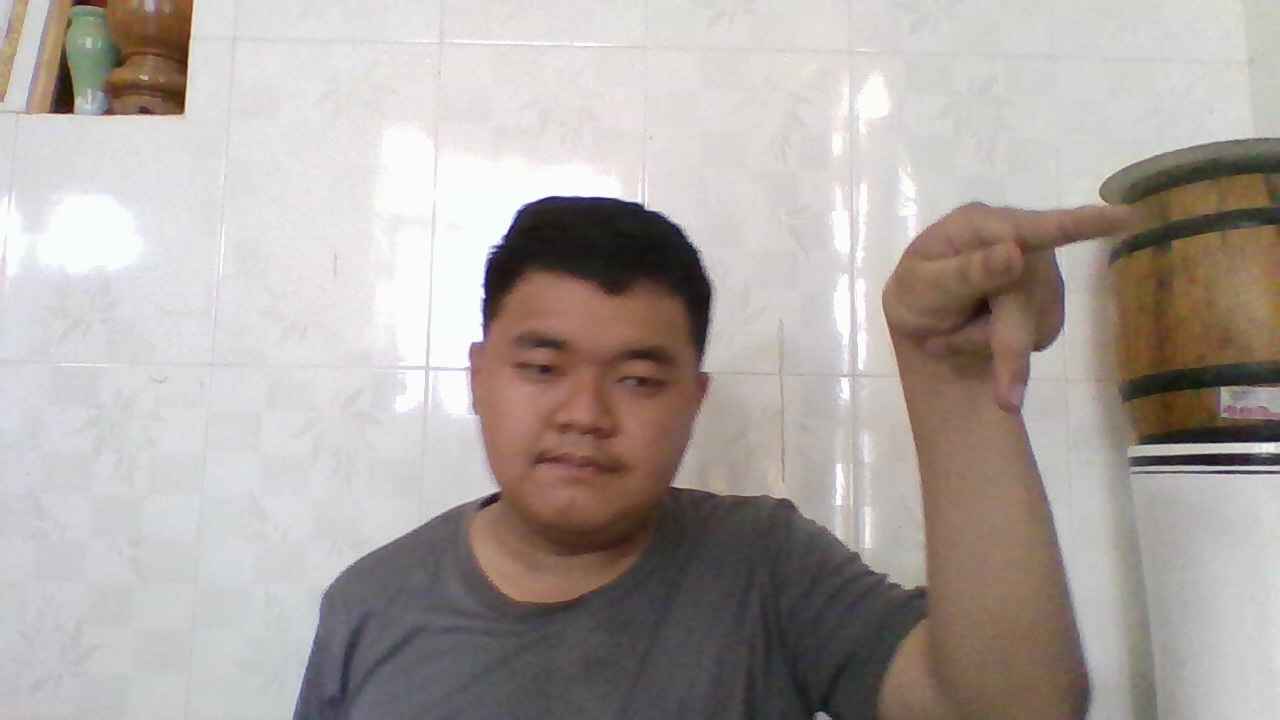P: (893, 203, 1157, 402)
